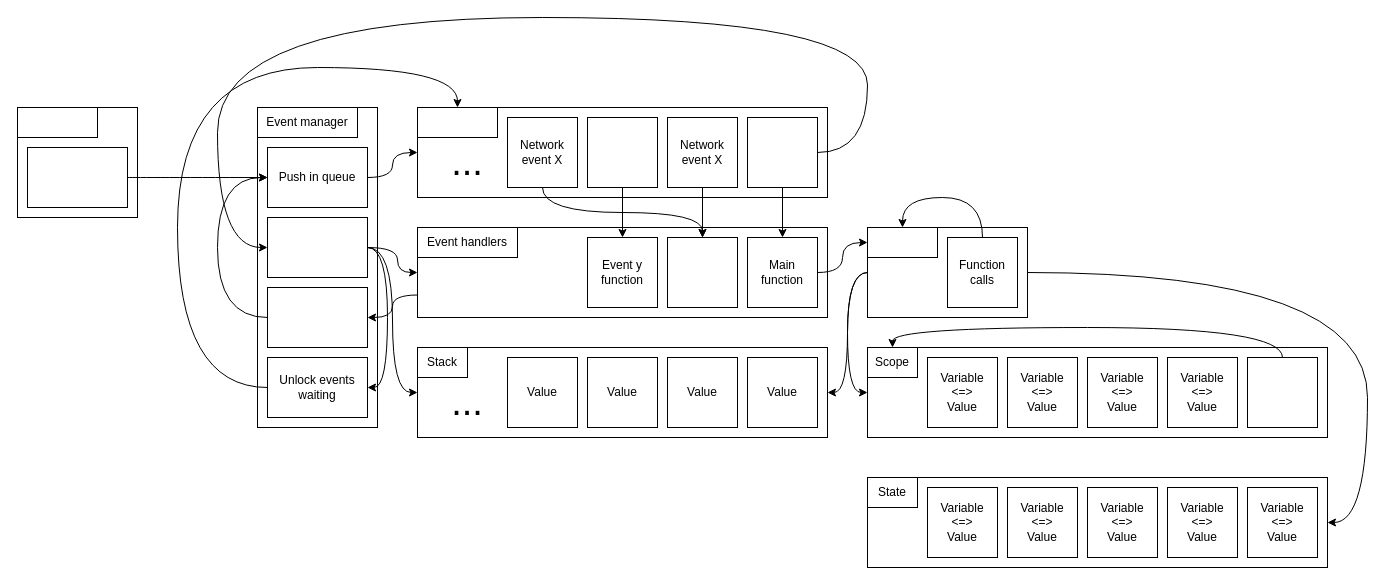
Some shapes in this 1385 by 585 pixel diagram are drawn without their labels. The shapes that lost their labels are listed below. From the top down, each one's box as (x1, y1, x2, y2) in pixels, then its label:
(16, 106, 98, 138): WebSockets
(416, 106, 498, 138): Event queue
(586, 116, 658, 188): Network event Y
(746, 116, 818, 188): Main event
(26, 146, 128, 208): Server or client event
(266, 216, 368, 278): Manage Event
(866, 226, 938, 258): Functions
(666, 236, 738, 308): Event x function
(266, 286, 368, 348): End or halt event
(1246, 356, 1318, 428): Parent scope
